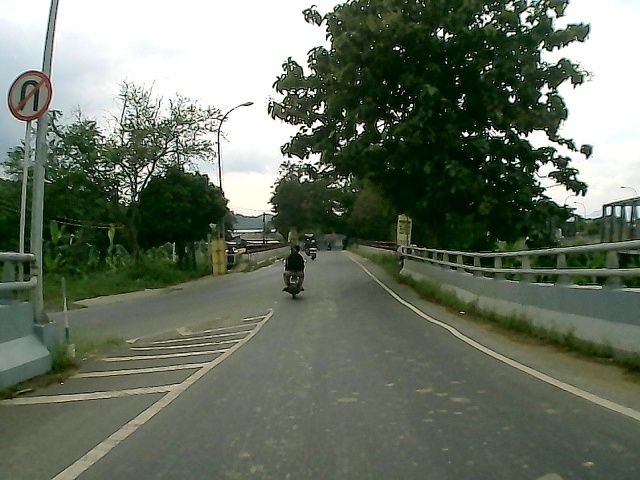Dilarang berbalik arah: (5, 69, 54, 123)
